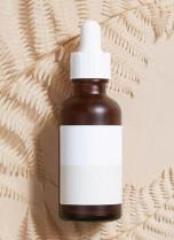glass: (61, 24, 124, 225)
